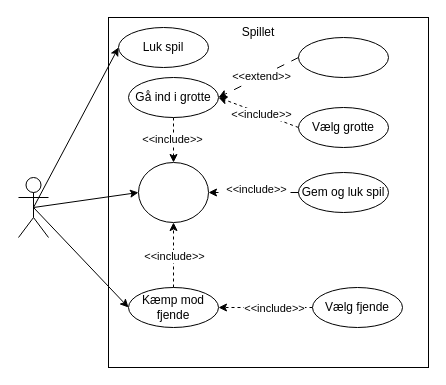
Image size: 446x385. Some labels were removed from this diagram. Each missing label, with the centre of its shape:
"Forlad grotte" belongs at point (343, 57).
"Spiller" belongs at point (33, 207).
"Vælg eller lav Hero" belongs at point (173, 192).
